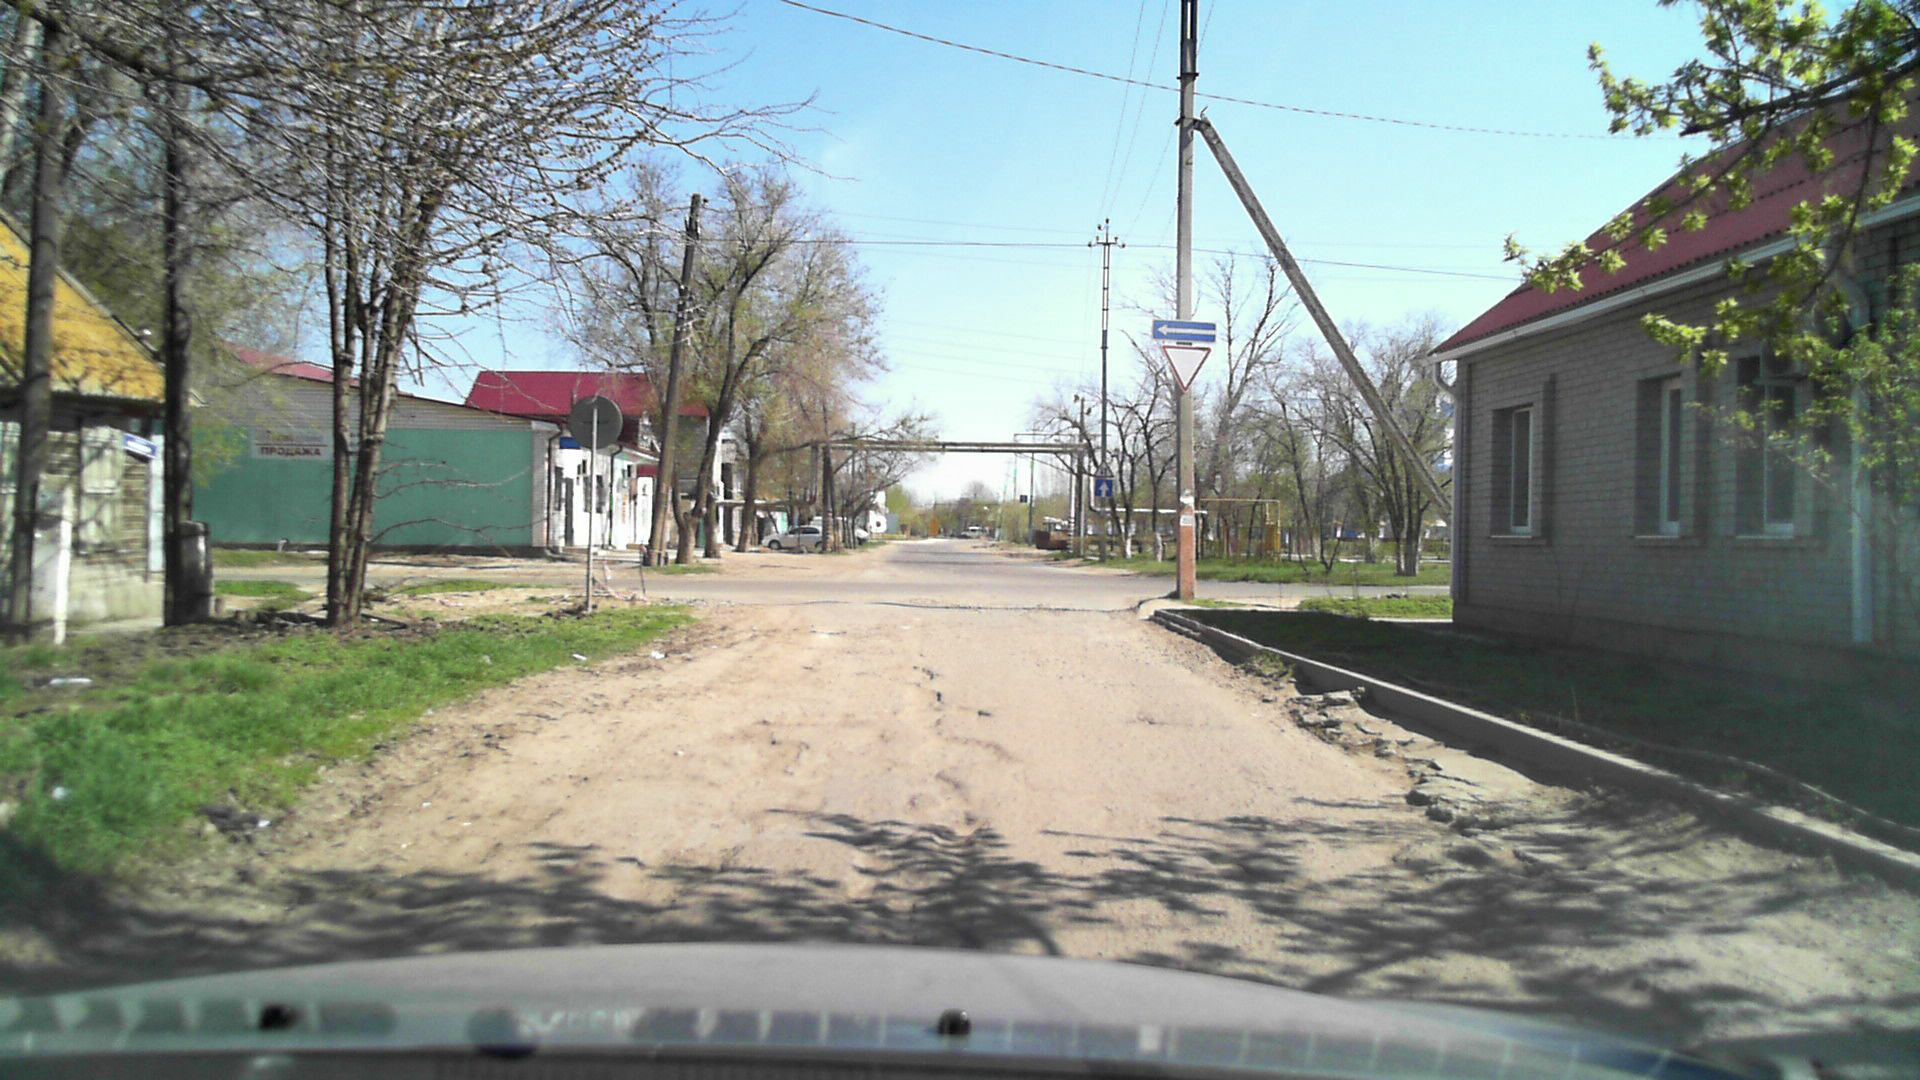One-Way Traffic: (1153, 318, 1216, 342)
